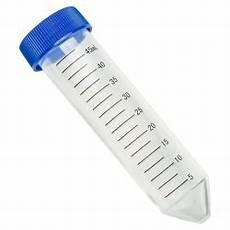Test tube: (14, 17, 214, 225)
